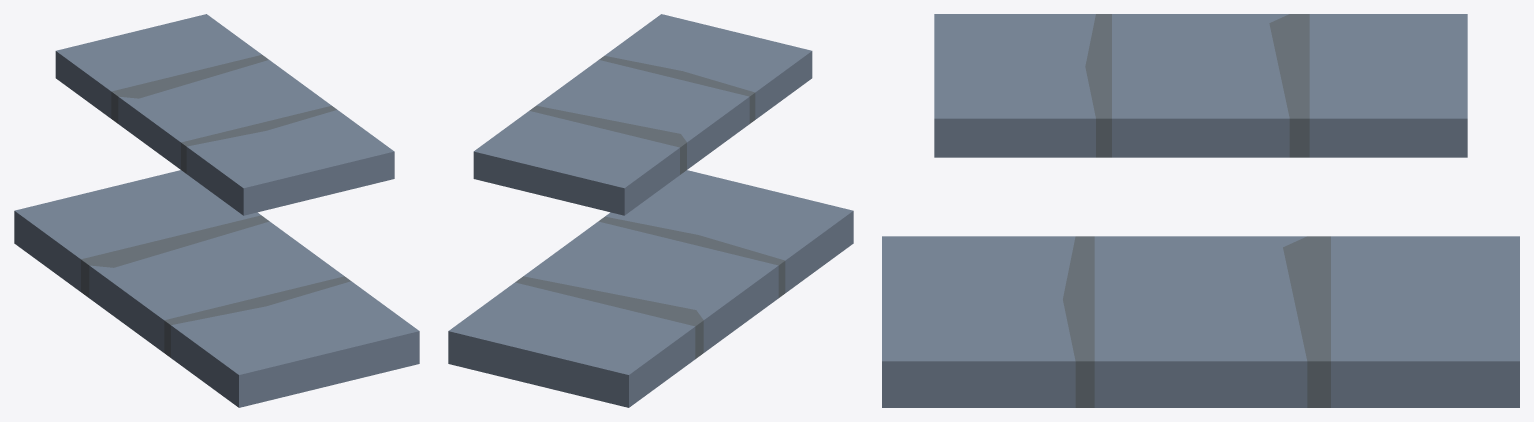
The model's file is Prop_Shelf_GreyPalette.fbx.
3 views of the same model, side by side, from view 1: azimuth 30°, elevation 25°; view 2: azimuth 150°, elevation 25°; view 3: azimuth 270°, elevation 25° (orthographic). The views are drawn at different scales.
Visible parts, largest first — view 1: Cube.104; view 2: Cube.104; view 3: Cube.104.
Part boxes in pixels (<box>): Cube.104: <box>14,14,419,407</box>; Cube.104: <box>448,14,853,407</box>; Cube.104: <box>882,14,1519,407</box>.
Bounding box in the file's own units: 26.67 × 28.32 × 57.5.
